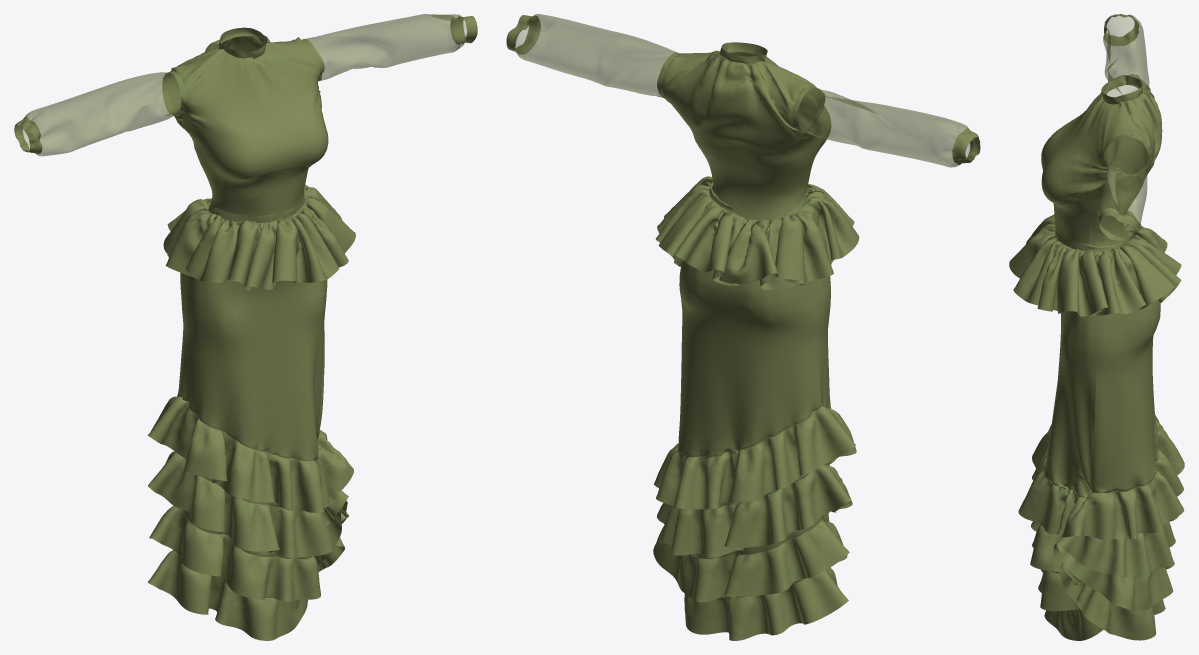
Rendered from G_Olive_full.glb.
3 renders of one model, left to right at view 1: azimuth 30°, elevation 25°; view 2: azimuth 150°, elevation 25°; view 3: azimuth 270°, elevation 25°, orthographic. The views are drawn at different scales.
Parts seen in each view (by area): view 1: Garment; view 2: Garment; view 3: Garment.
Part boxes in pixels (x1,y1,x2,y2): Garment: [14, 14, 477, 640]; Garment: [506, 14, 980, 640]; Garment: [1009, 14, 1184, 640].
Bounding box in the file's own units: 1.15 × 1.41 × 0.4119.
1 material, 1 textured.
